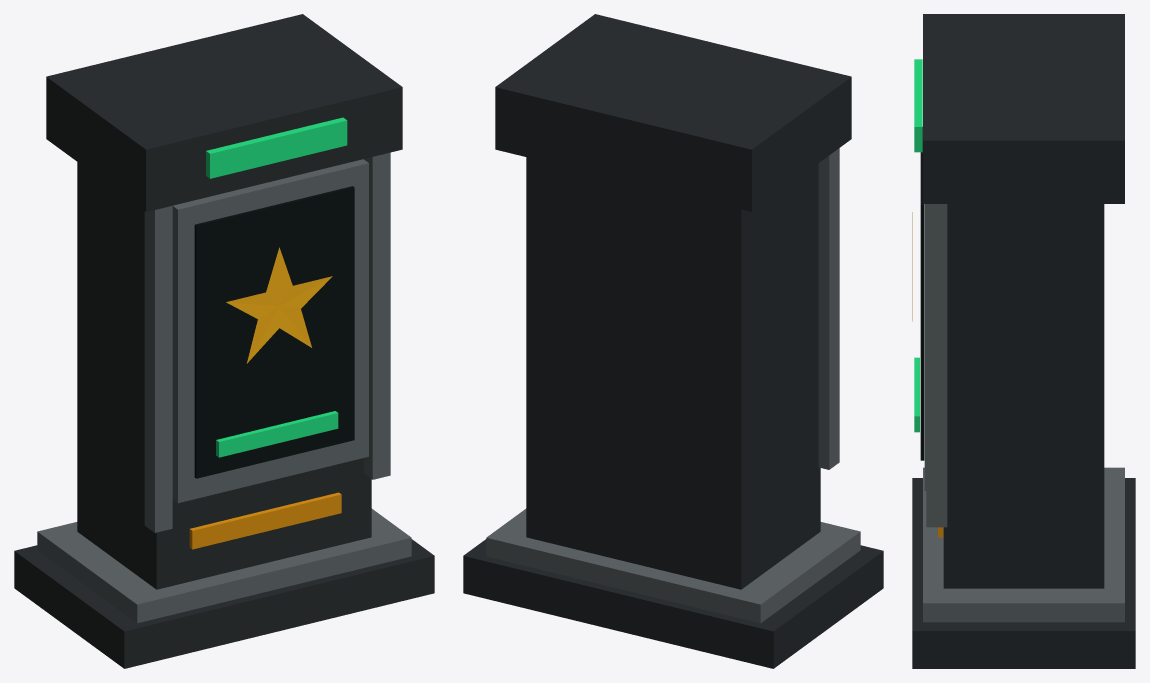
Rendered from StarDetector.obj.
3 views of the same model, side by side, from view 1: azimuth 30°, elevation 25°; view 2: azimuth 150°, elevation 25°; view 3: azimuth 270°, elevation 25° (orthographic).
Visible parts, largest first — view 1: Scanner_Head, Upright_Housing, Display_Glass, Detector_Base, Front_Bezel, Foot_Trim, Left_Side_Rail, Right_Side_Rail, Scanner_Lens, Gold_Star_Emblem, Lower_Warning_Plate, Status_Bar; view 2: Upright_Housing, Scanner_Head, Detector_Base, Foot_Trim, Left_Side_Rail; view 3: Upright_Housing, Scanner_Head, Detector_Base, Foot_Trim, Right_Side_Rail, Display_Glass, Front_Bezel, Scanner_Lens, Status_Bar.
Part boxes in pixels (x1=…): Scanner_Head: x1=46, y1=14, x2=402, y2=211; Upright_Housing: x1=77, y1=162, x2=371, y2=589; Display_Glass: x1=194, y1=186, x2=354, y2=478; Detector_Base: x1=14, y1=539, x2=434, y2=668; Front_Bezel: x1=172, y1=159, x2=368, y2=503; Foot_Trim: x1=37, y1=508, x2=411, y2=623; Left_Side_Rail: x1=144, y1=206, x2=172, y2=532; Right_Side_Rail: x1=364, y1=152, x2=390, y2=479; Scanner_Lens: x1=206, y1=117, x2=347, y2=178; Gold_Star_Emblem: x1=226, y1=247, x2=332, y2=363; Lower_Warning_Plate: x1=189, y1=492, x2=341, y2=549; Status_Bar: x1=216, y1=411, x2=338, y2=457; Upright_Housing: x1=526, y1=157, x2=820, y2=589; Scanner_Head: x1=495, y1=14, x2=851, y2=211; Detector_Base: x1=463, y1=539, x2=883, y2=668; Foot_Trim: x1=486, y1=508, x2=860, y2=623; Left_Side_Rail: x1=818, y1=148, x2=839, y2=469; Upright_Housing: x1=943, y1=204, x2=1104, y2=588; Scanner_Head: x1=923, y1=14, x2=1124, y2=203; Detector_Base: x1=912, y1=478, x2=1135, y2=668; Foot_Trim: x1=923, y1=467, x2=1124, y2=622; Right_Side_Rail: x1=926, y1=204, x2=947, y2=527; Display_Glass: x1=920, y1=127, x2=924, y2=460; Front_Bezel: x1=924, y1=204, x2=926, y2=490; Scanner_Lens: x1=914, y1=59, x2=922, y2=152; Status_Bar: x1=914, y1=357, x2=919, y2=432.
Bounding box in the file's own units: 1.04 × 1.63 × 0.64.
